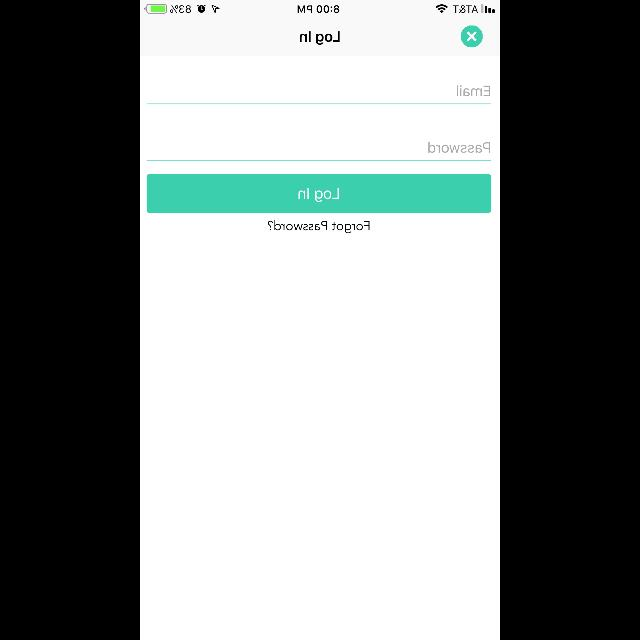icon: (460, 26, 482, 48)
input: (147, 142, 491, 162), (147, 86, 491, 104)
text: (268, 220, 370, 233), (428, 142, 490, 154), (300, 32, 340, 44), (456, 85, 489, 96)
textbutton: (147, 174, 491, 213)
uppertaskbar: (140, 0, 500, 14)
